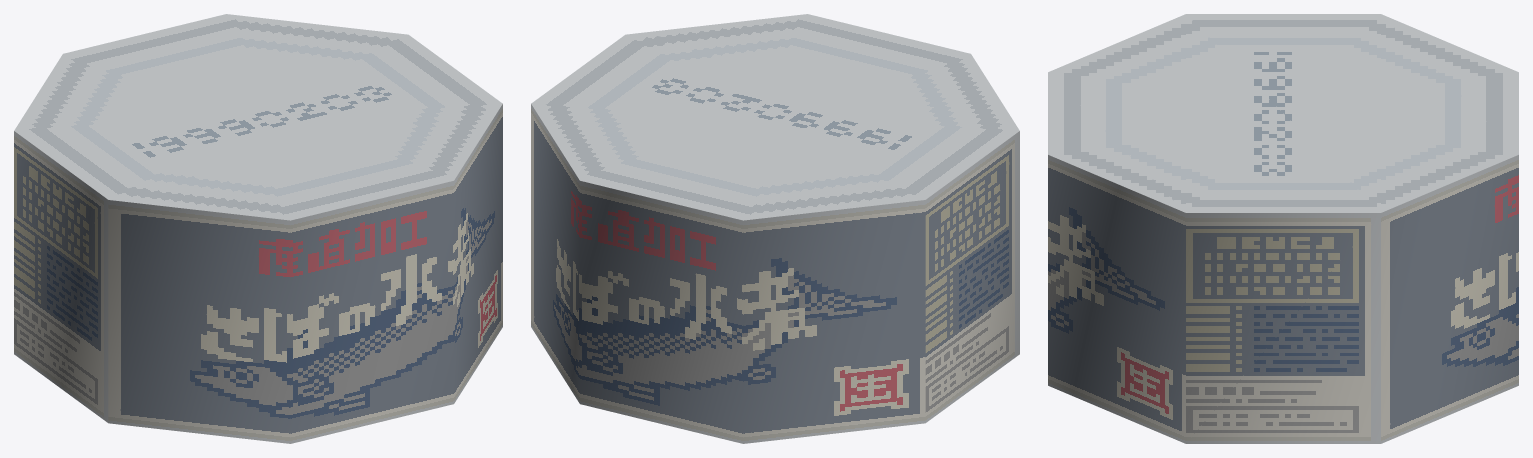
Rendered from 0007_Canned_Mackerel.glb.
3 renders of one model, left to right at view 1: azimuth 30°, elevation 25°; view 2: azimuth 150°, elevation 25°; view 3: azimuth 270°, elevation 25°, orthographic. The views are drawn at different scales.
Visible parts, largest first — view 1: part_0; view 2: part_0; view 3: part_0.
Boxes of the visible parts, box(x1,y1,x2,y2) form: part_0: box(14, 14, 502, 443); part_0: box(531, 14, 1019, 443); part_0: box(1048, 14, 1518, 443).
Bounding box in the file's own units: 0.0942 × 0.051 × 0.0942.
Materials: 1 (1 with a texture image).
